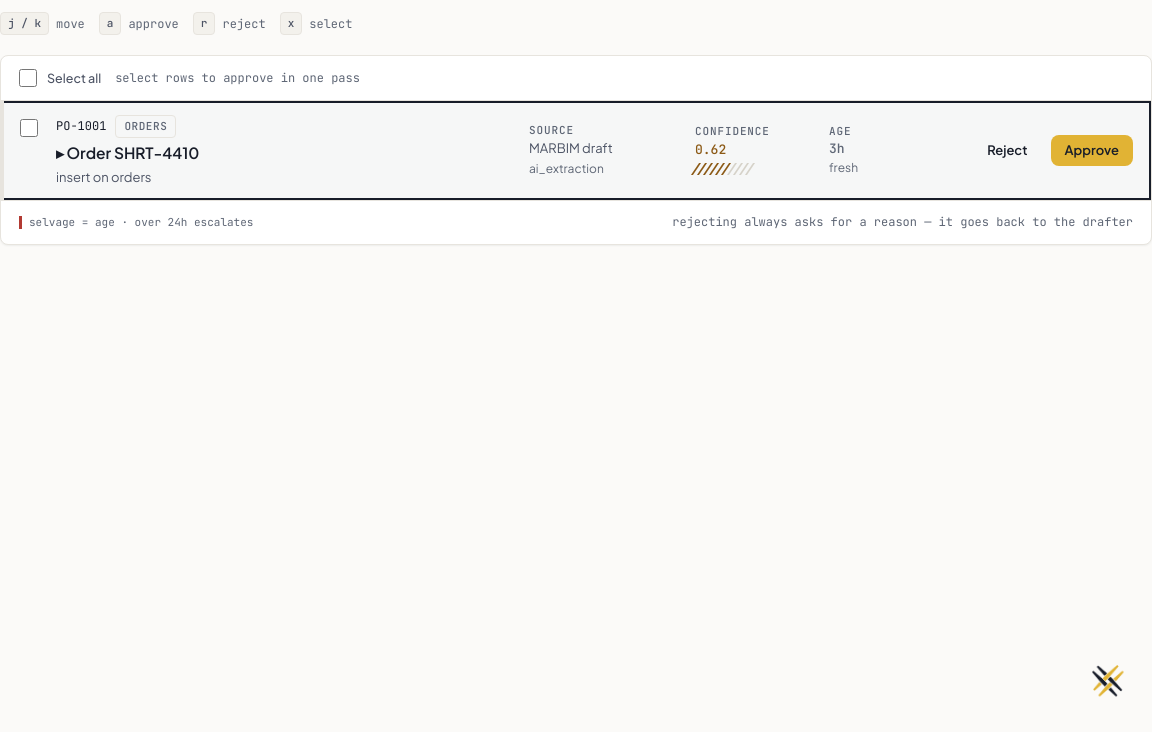
Scenario: a reviewer can correct a field before signing › shows whose hands the draft has passed through — the trail a countersignature is for
This screenshot has width=1152, height=732.
Click the button "▸ Order SHRT-4410" at (133, 152), box [56,143,513,163]
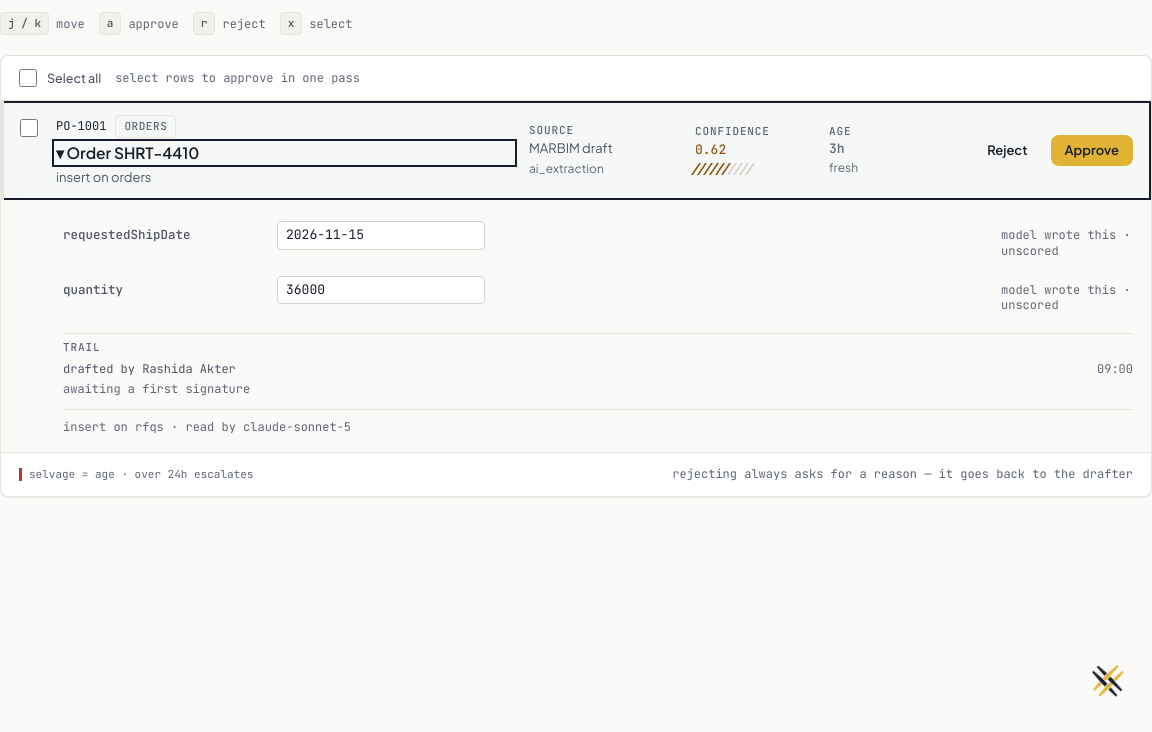
Now the field named "requestedShipDate" is shown, box [277,221,485,250]
Now the text "drafted by Rashida Akter" is shown, box [63,359,236,379]
Now the text "awaiting a first signature" is shown, box [63,379,250,400]
